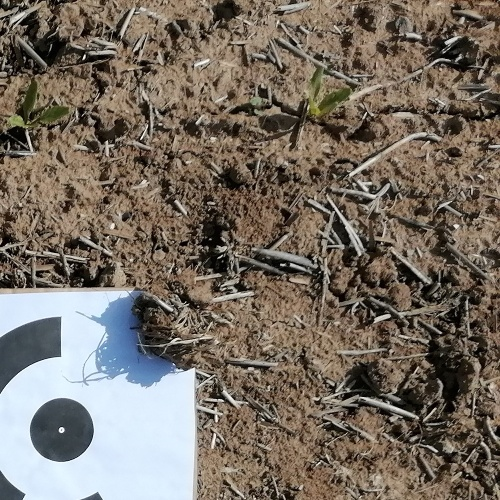beet: (8, 81, 71, 130), (301, 66, 353, 121)
